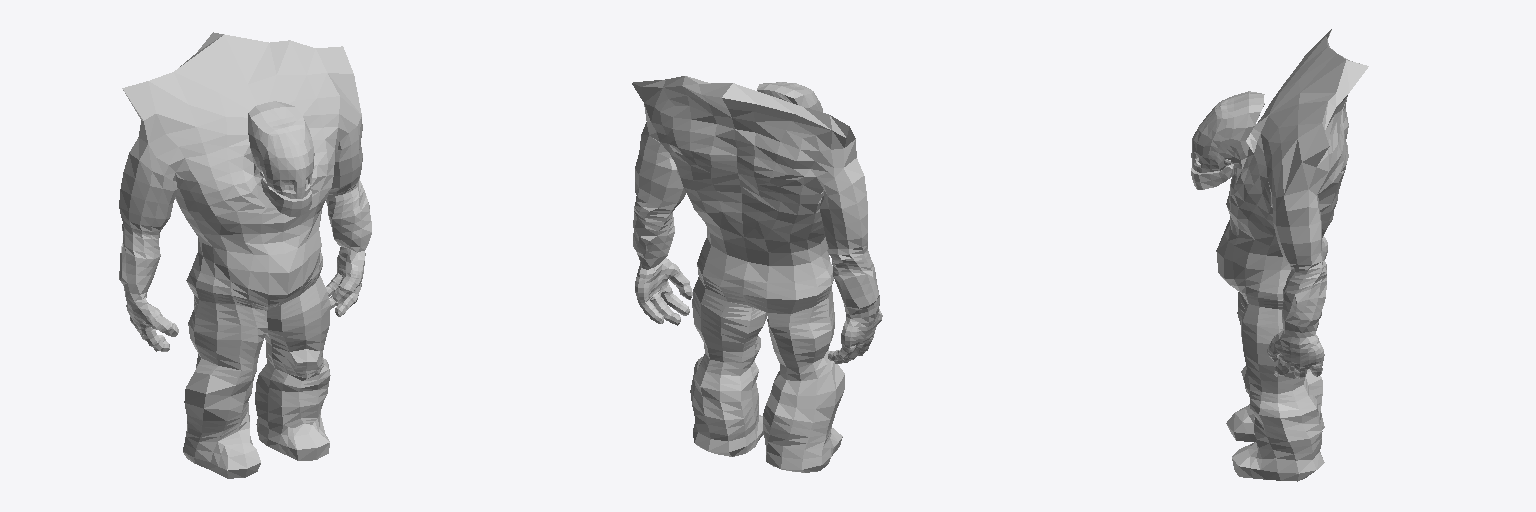
Rendered from golem_000019.obj.
3 renders of one model, left to right at view 1: azimuth 30°, elevation 25°; view 2: azimuth 150°, elevation 25°; view 3: azimuth 270°, elevation 25°, orthographic.
Visible parts, largest first — view 1: golem; view 2: golem; view 3: golem.
Part boxes in pixels (x1,y1,x2,y2): golem: (119,32,371,478); golem: (632,76,882,472); golem: (1191,29,1368,481).
Bounding box in the file's own units: 7.35 × 11.27 × 4.64.